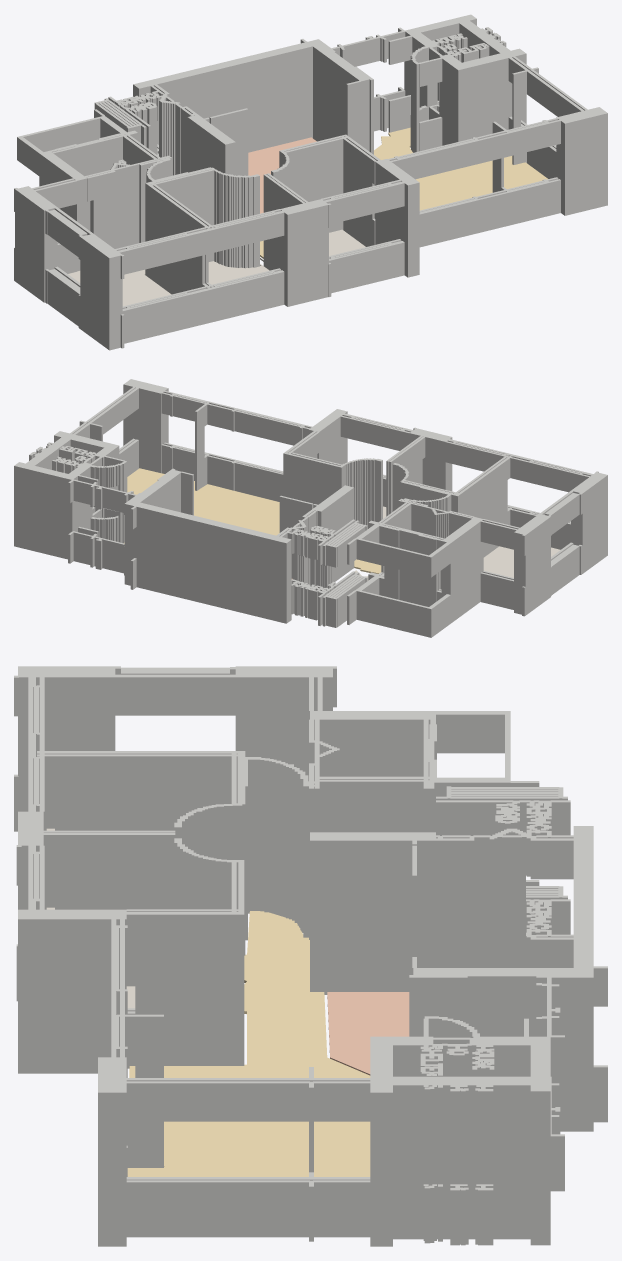
The picture shows the model from 3 angles, top to bottom: view 1: azimuth 30°, elevation 25°; view 2: azimuth 150°, elevation 25°; view 3: azimuth 270°, elevation 25°; orthographic projection. The views are drawn at different scales.
Visible parts, largest first — view 1: walls, room:living:2, room:other:7, room:kitchen:0, room:other:8, room:other:9; view 2: walls, room:living:2, room:other:7; view 3: walls, room:living:2, room:kitchen:0.
Part boxes in pixels (bbox=[...]): walls: bbox=[14, 14, 607, 350]; room:living:2: bbox=[260, 127, 548, 258]; room:other:7: bbox=[68, 269, 171, 306]; room:kitchen:0: bbox=[248, 137, 316, 213]; room:other:8: bbox=[208, 261, 269, 284]; room:other:9: bbox=[260, 229, 365, 261]; walls: bbox=[14, 379, 607, 637]; room:living:2: bbox=[124, 468, 381, 573]; room:other:7: bbox=[483, 546, 560, 577]; walls: bbox=[14, 666, 607, 1246]; room:living:2: bbox=[127, 911, 370, 1176]; room:kitchen:0: bbox=[327, 992, 409, 1075].
Bounding box in the file's own units: 16.6 × 2.8 × 9.78.
